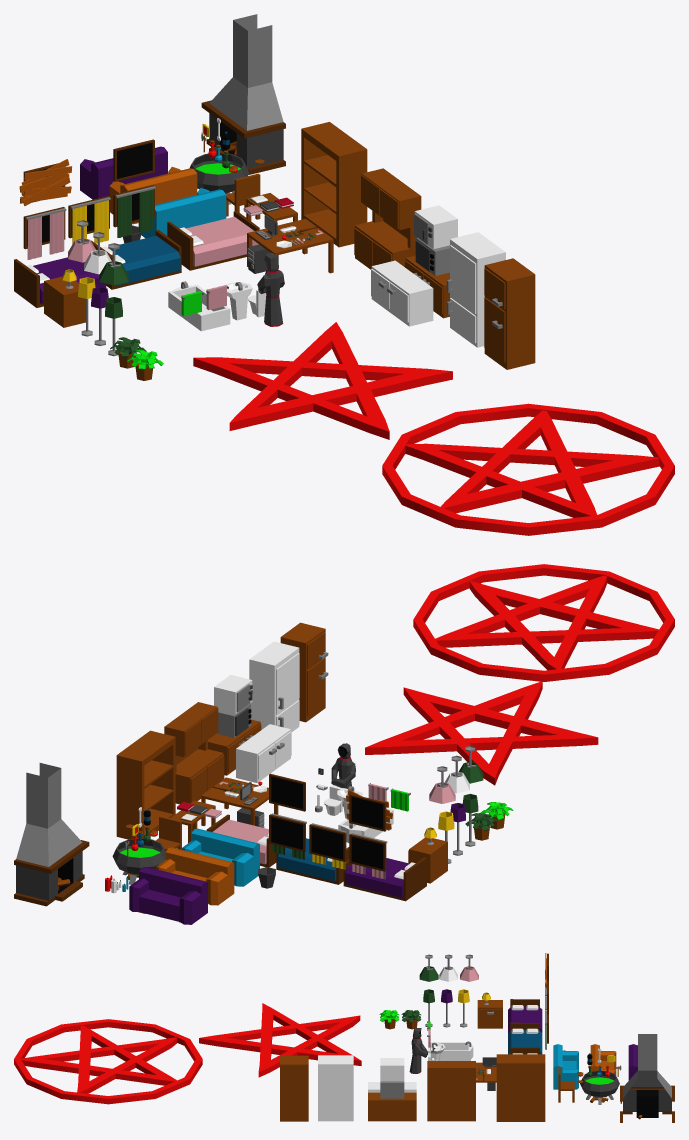
File: kanamunakartoni.FBX
The picture shows the model from 3 angles, top to bottom: view 1: azimuth 30°, elevation 25°; view 2: azimuth 150°, elevation 25°; view 3: azimuth 270°, elevation 25°; orthographic projection. The views are drawn at different scales.
Visible parts, largest first — view 1: pentagram2, pentagram, takka, Kirjahylly, kaappi3, Hylly1, jaakaappi, sanky_pink, Kaappi3_white, sanky_blue, sohva_blue, sanky_purple (+16 smaller); view 2: pentagram2, pentagram, takka, Kirjahylly, Hylly1, jaakaappi, sohva_purple, kaappi3, Kaappi3_white, sanky_purple, sohva_orange, sohva_blue (+16 smaller); view 3: pentagram2, pentagram, Kirjahylly, Hylly1, takka, jaakaappi, kaappi3, Kaappi2, sohva_blue, Pata, sanky_blue, sanky_purple (+14 smaller).
Boxes of the visible parts, x1,y1,x2,y2 form: pentagram2: [382, 403, 674, 535]; pentagram: [193, 322, 452, 439]; takka: [201, 14, 285, 174]; Kirjahylly: [301, 122, 367, 247]; kaappi3: [484, 258, 535, 369]; Hylly1: [354, 168, 421, 269]; jaakaappi: [446, 232, 505, 347]; sanky_pink: [167, 211, 259, 270]; Kaappi3_white: [371, 260, 433, 326]; sanky_blue: [91, 230, 181, 289]; sohva_blue: [138, 188, 226, 238]; sanky_purple: [14, 257, 106, 307]; pentagram2: [413, 564, 674, 681]; pentagram: [365, 681, 598, 785]; takka: [14, 763, 89, 906]; Kirjahylly: [116, 730, 175, 839]; Hylly1: [164, 702, 224, 804]; jaakaappi: [249, 641, 299, 731]; sohva_purple: [129, 867, 207, 924]; kaappi3: [280, 622, 328, 722]; Kaappi3_white: [236, 724, 291, 782]; sanky_purple: [343, 857, 426, 901]; sohva_orange: [156, 847, 234, 905]; sohva_blue: [181, 828, 259, 886]; pentagram2: [14, 1019, 202, 1104]; pentagram: [199, 1003, 361, 1077]; Kirjahylly: [496, 1054, 545, 1121]; Hylly1: [427, 1061, 475, 1121]; takka: [620, 1034, 674, 1122]; jaakaappi: [318, 1055, 353, 1121]; kaappi3: [280, 1055, 308, 1121]; Kaappi2: [368, 1092, 416, 1121]; sohva_blue: [553, 1044, 578, 1089]; Pata: [580, 1070, 619, 1104]; sanky_blue: [508, 1022, 542, 1054]; sanky_purple: [508, 999, 542, 1032].
Bounding box in the file's own units: 1548 × 591 × 4105.
